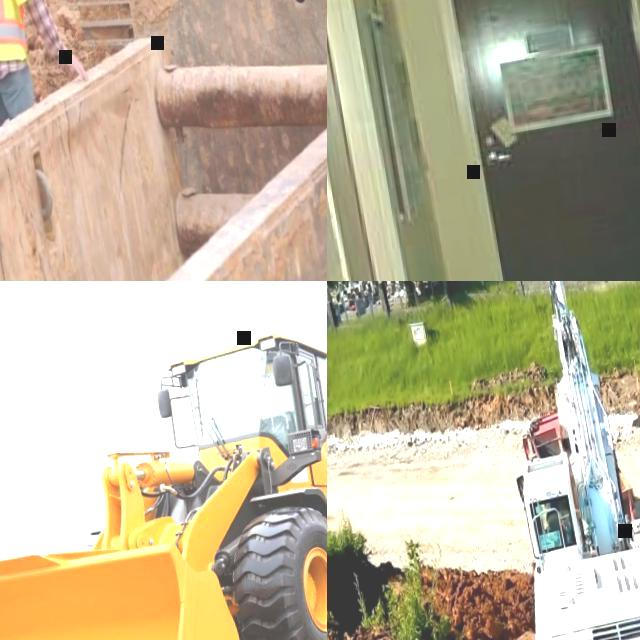machinery: (0, 299, 327, 640), (473, 281, 640, 640), (39, 0, 327, 64)
person: (0, 0, 94, 130)
